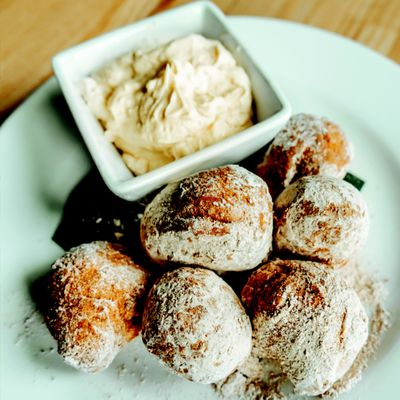sushi: (48, 1, 293, 203)
